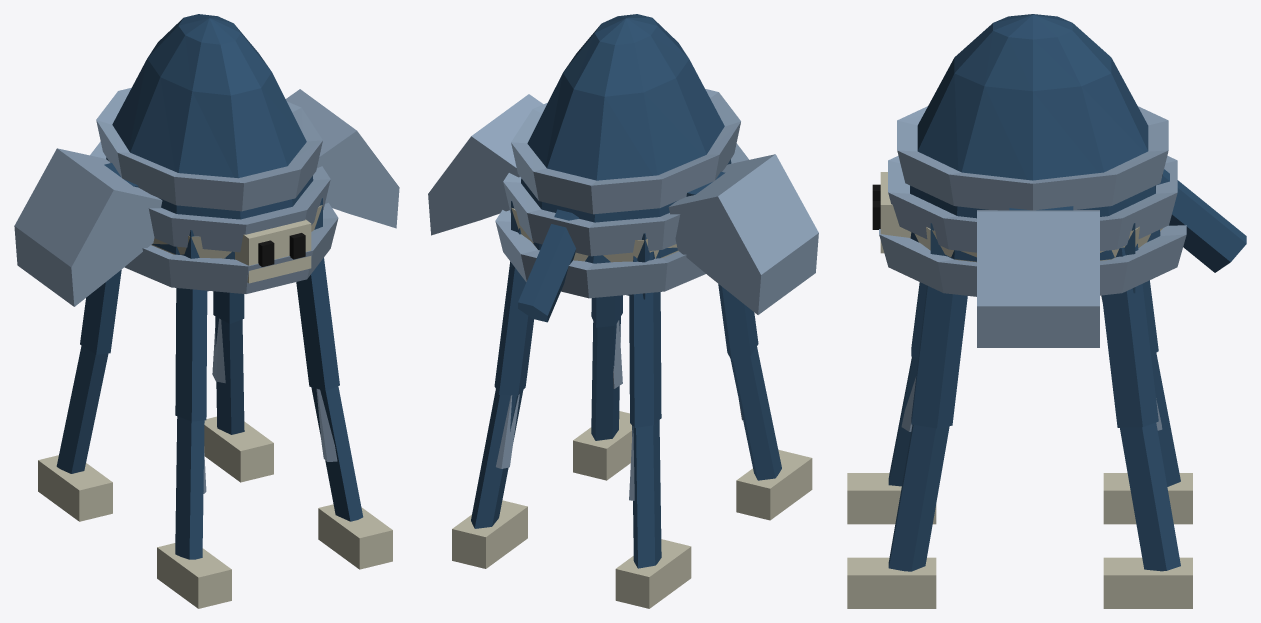
The model's file is catarill.glb.
The picture shows the model from 3 angles, left to right: view 1: azimuth 30°, elevation 25°; view 2: azimuth 150°, elevation 25°; view 3: azimuth 270°, elevation 25°; orthographic projection. The views are drawn at different scales.
Parts seen in each view (by area): view 1: Catarill; view 2: Catarill; view 3: Catarill.
Part boxes in pixels (<box>): Catarill: <box>14,14,399,608</box>; Catarill: <box>428,14,818,608</box>; Catarill: <box>847,14,1246,608</box>.
Size of the model in its own units: 0.92 by 1.35 by 0.9.
